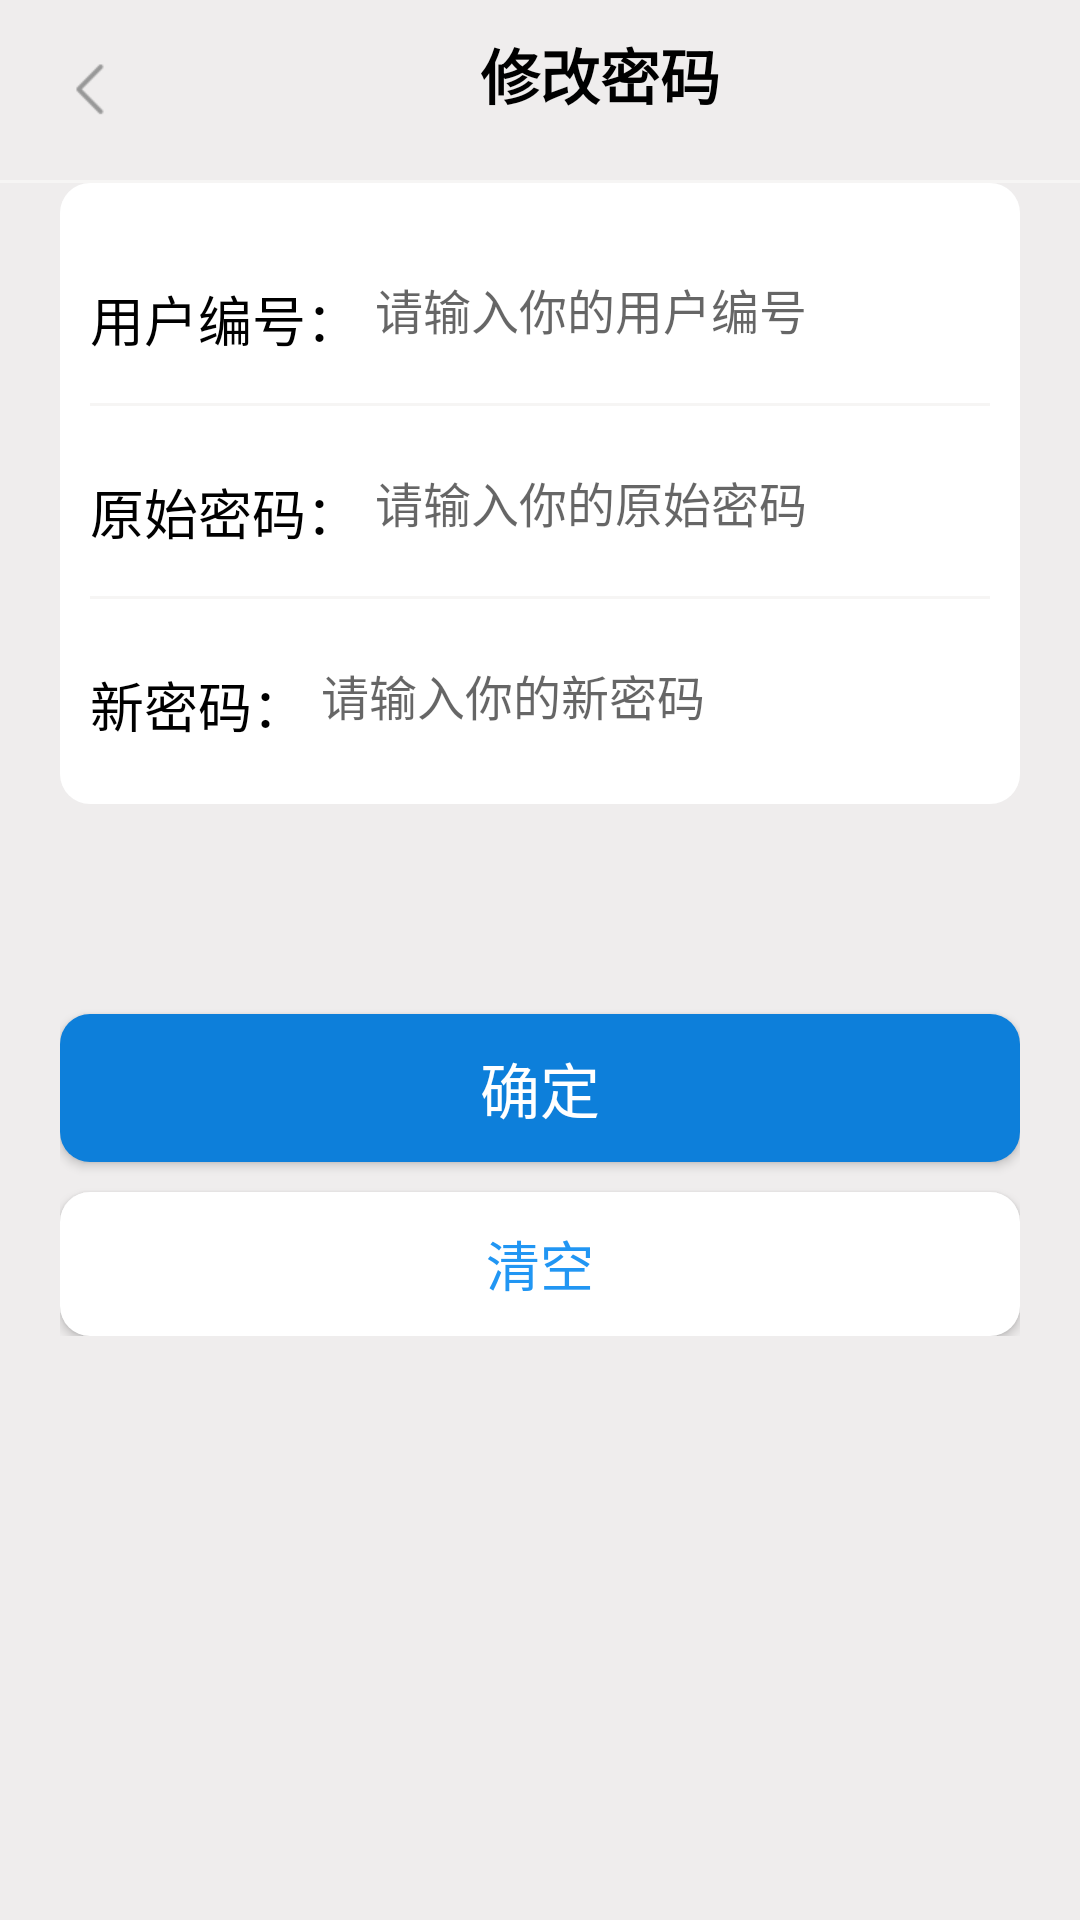

Screen size 1080px×1920px. Icon name, then its box in pixels as region(x1, y1, x2, y2):
top bar left back: region(76, 64, 103, 114)
